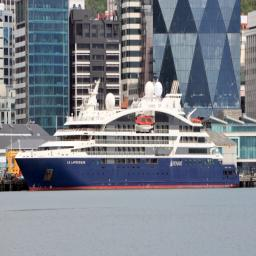cruises: (15, 75, 241, 193)
